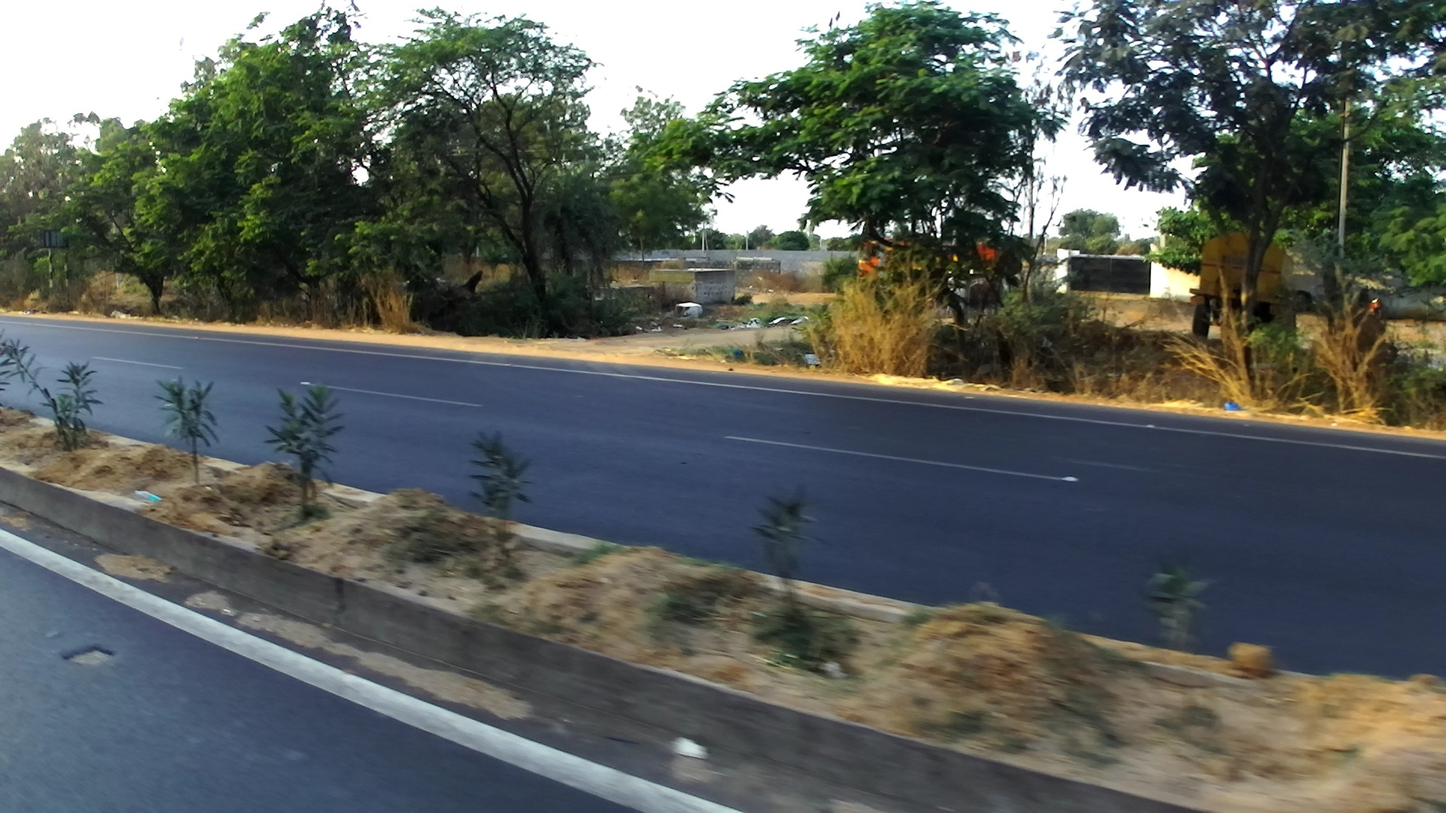truck: (1188, 227, 1294, 346)
vehicle fallback: (853, 224, 1016, 318)
